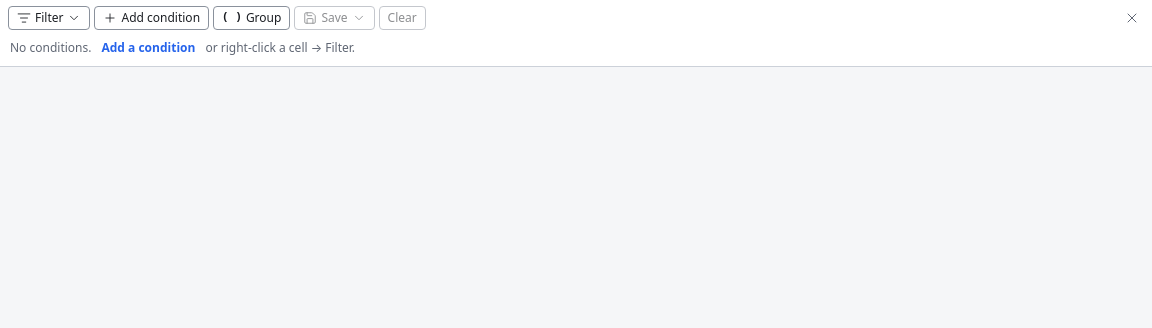
Test: FilterBar › switching to a date column offers date operators; invalid values are flagged, not applied
The image size is (1152, 328).
Click the button "Add condition" at (152, 18), box [94,6,209,30]
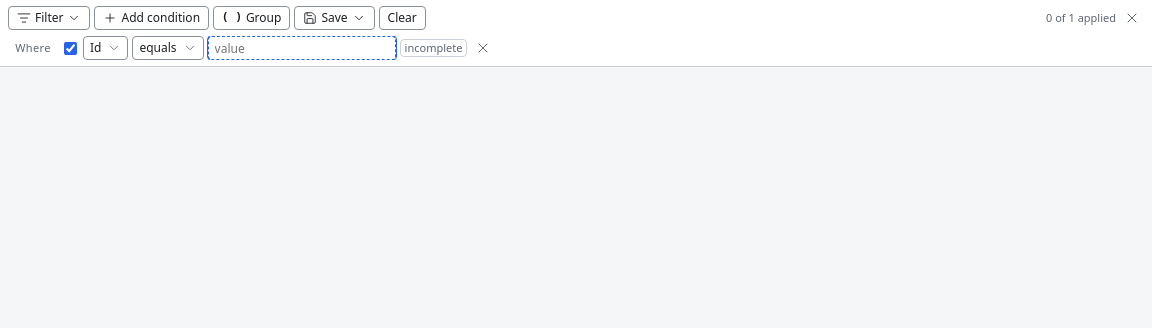
Click the dropdown named "Column" at (106, 48), box [83,36,128,60]
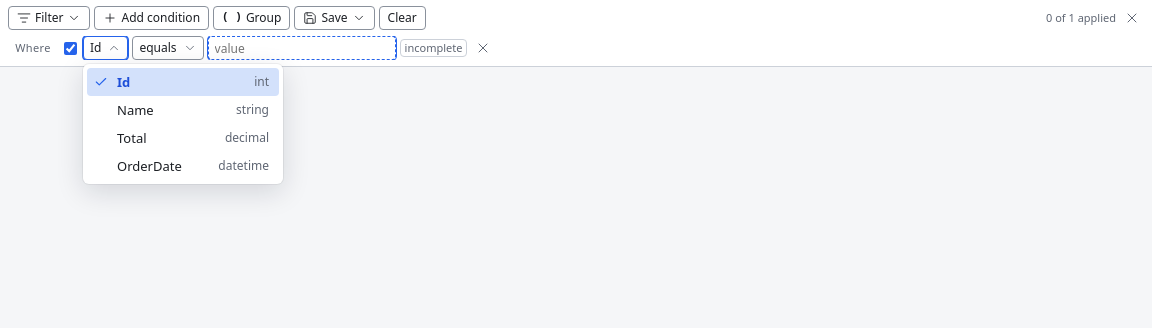
Click the option "OrderDate datetime" at (149, 166), box [117,157,269,175]
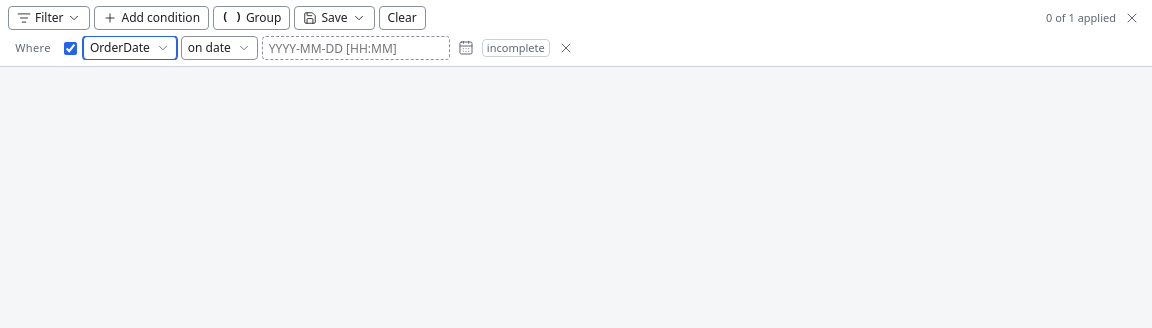
Type "tomorrow" into the field named "Value" at (356, 48), box [262,36,450,60]
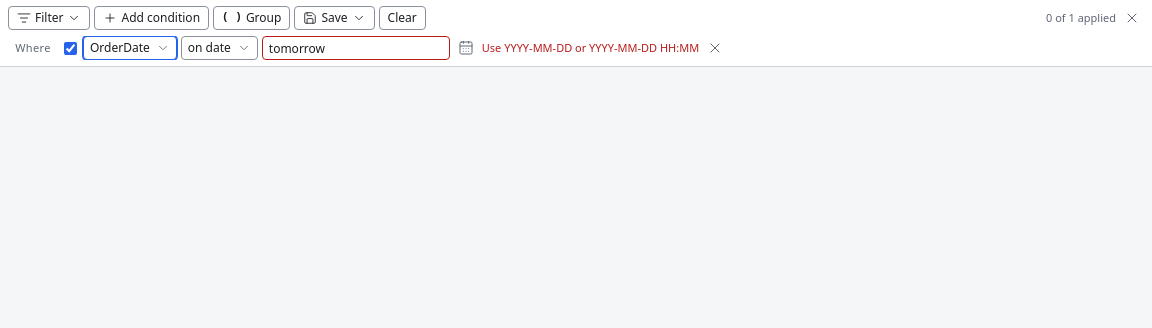
Now the text "Use YYYY-MM-DD or YYYY-MM-DD HH:MM" is shown, box [482,40,699,56]
Click the dropdown named "Operator" at (219, 48), box [181,36,258,60]
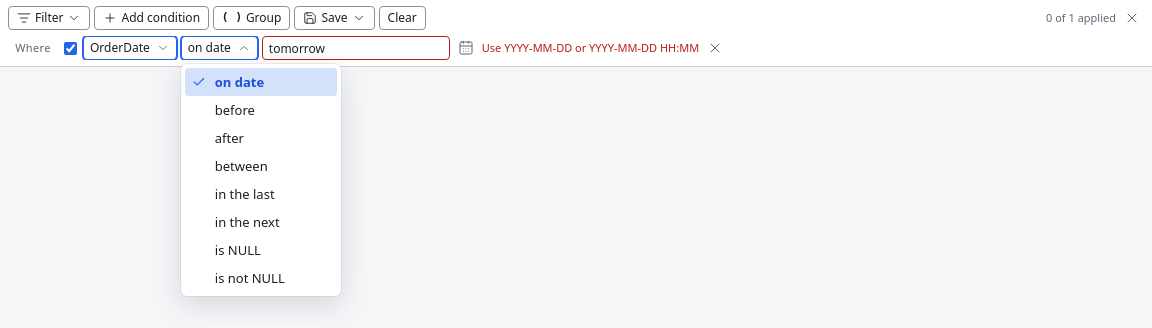
Click the option "in the last" at (245, 194), box [215,185,275,203]
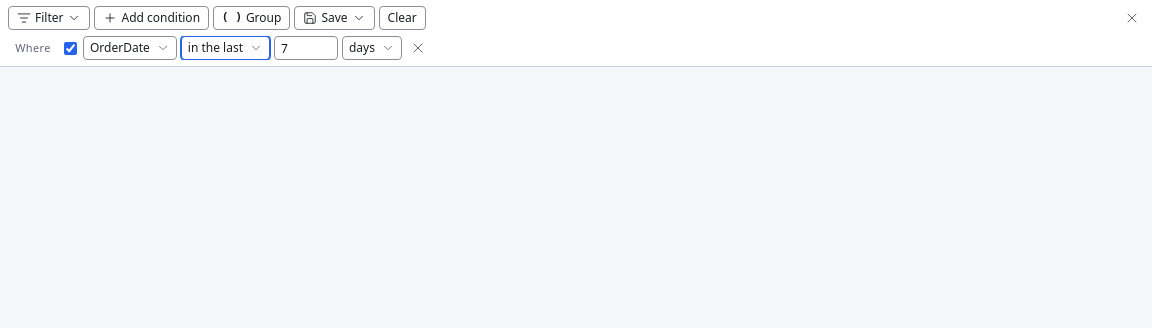
Now the number field named "Count" is shown, box [274,36,338,60]
